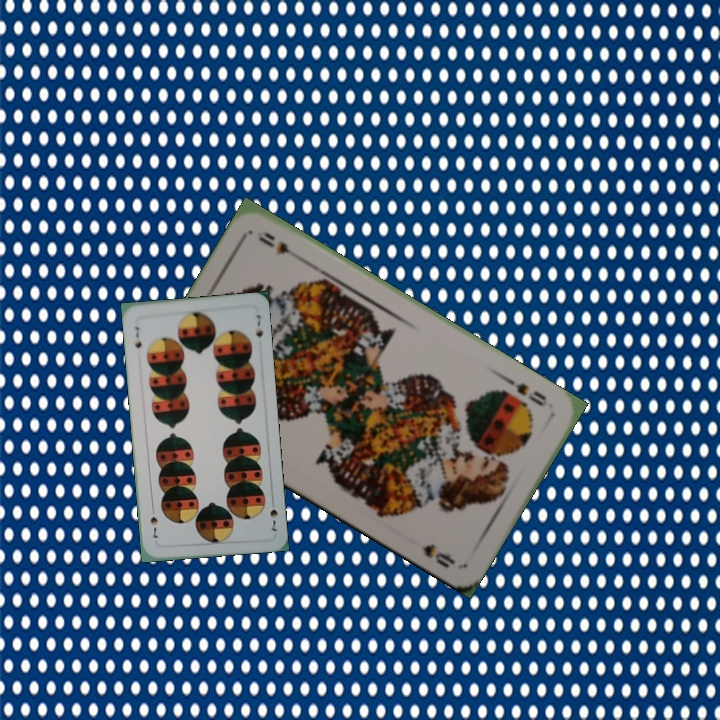S7: (266, 495, 280, 534), (131, 322, 144, 353)
SO: (502, 373, 550, 409)
